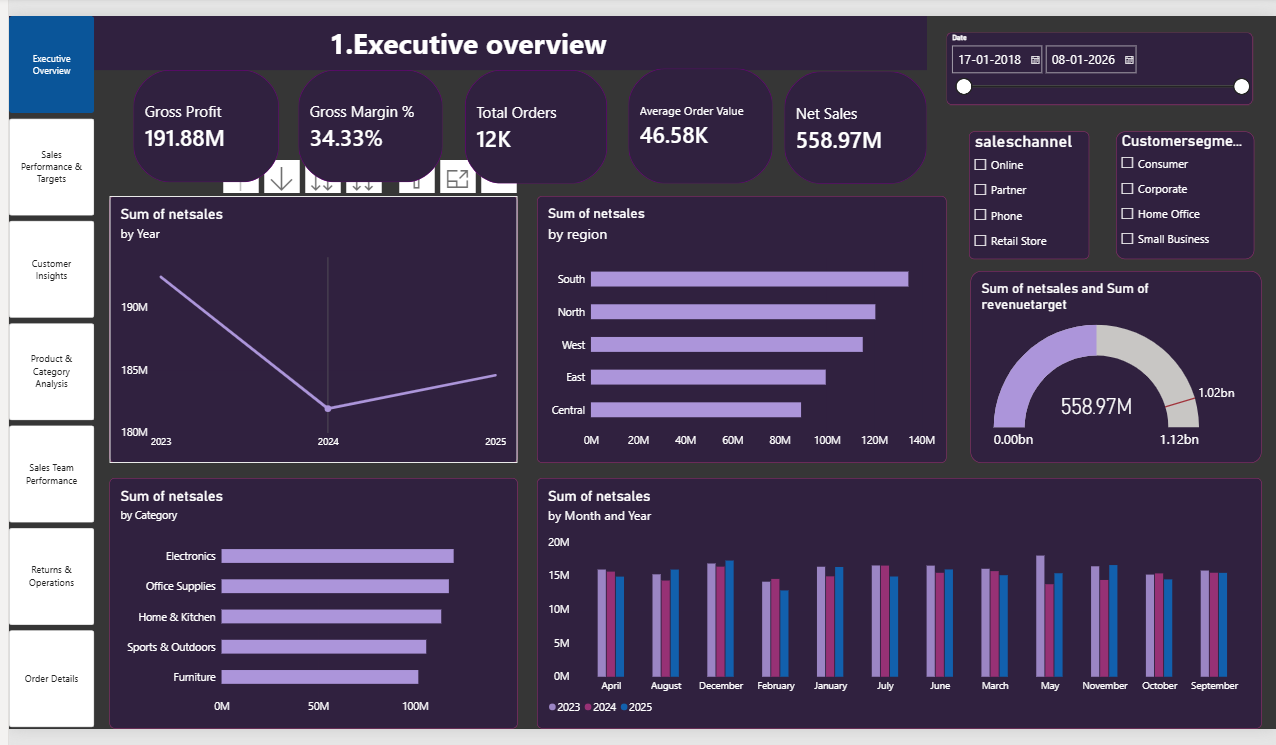

Layout of this report page (visuals, bound fields, positions):
{"tool":"powerbi","page":{"name":"Executive Overview","canvas":[1920,1080],"ordinal":0},"visuals":[{"type":"lineChart","fields":{"Category":["Calendar.Date.Variation.Date Hierarchy.Year","Calendar.Date.Variation.Date Hierarchy.Quarter","Calendar.Date.Variation.Date Hierarchy.Month","Calendar.Date.Variation.Date Hierarchy.Day"],"Y":["Sum(Order_items.netsales)"]},"box":[152.2,272.6,617.8,404.3],"z":0},{"type":"clusteredBarChart","fields":{"Category":["Customers.region"],"Y":["Sum(Order_items.netsales)"]},"box":[799.5,272.6,620.1,404.3],"z":1000},{"type":"clusteredBarChart","fields":{"Category":["Products.Category"],"Y":["Sum(Order_items.netsales)"]},"box":[152.2,699.6,617.8,379.3],"z":2000},{"type":"slicer","fields":{"Values":["Calendar.Date"]},"box":[1419.6,25,463.3,109],"z":3000},{"type":"slicer","fields":{"Values":["Orders.saleschannel"]},"box":[1454.5,175,181.8,193.2],"z":4000},{"type":"slicer","fields":{"Values":["Customers.customersegment"]},"box":[1677.3,175,209.1,193.2],"z":5000},{"type":"gauge","fields":{"TargetValue":["Sum(Sales_targets.revenuetarget)"],"Y":["Sum(Order_items.netsales)"]},"box":[1455.9,386.1,440.6,290.7],"z":6000},{"type":"clusteredColumnChart","fields":{"Category":["Calendar.Month"],"Series":["Calendar.Year"],"Y":["Sum(Order_items.netsales)"]},"box":[799.5,699.6,1097,379.3],"z":7000},{"type":"actionButton","box":[0,0,1390,81.8],"z":8000},{"type":"cardVisual","fields":{"Data":["Order_items.Average Order Value"]},"box":[938,79.5,218,174.9],"z":9000},{"type":"cardVisual","fields":{"Data":["Order_items.Total Orders"]},"box":[690.5,81.8,215.8,172.6],"z":11000},{"type":"cardVisual","fields":{"Data":["Order_items.Gross Margin %"]},"box":[438.4,81.8,218,170.3],"z":12000},{"type":"cardVisual","fields":{"Data":["Order_items.Gross Profit"]},"box":[188.5,81.8,220.3,170.3],"z":13000},{"type":"cardVisual","fields":{"Data":["Order_items.Net Sales"]},"box":[1174.3,84,215.8,170.3],"z":14000},{"type":"pageNavigator","box":[0,0,129.5,1078.9],"z":14001}]}

Visuals, with their boxes on the page's 1920x1080 design canvas (x1, y1, x2, y2). These are canvas units, not pixel positions in the 1276x745 screenshot, which may show the page scaled, cropped or inside an application window:
lineChart - Calendar.Date.Variation.Date Hierarchy.Year x Calendar.Date.Variation.Date Hierarchy.Quarter: [left=152, top=273, right=770, bottom=677]
clusteredBarChart - Customers.region x Sum(Order_items.netsales): [left=800, top=273, right=1420, bottom=677]
clusteredBarChart - Products.Category x Sum(Order_items.netsales): [left=152, top=700, right=770, bottom=1079]
slicer - Calendar.Date: [left=1420, top=25, right=1883, bottom=134]
slicer - Orders.saleschannel: [left=1454, top=175, right=1636, bottom=368]
slicer - Customers.customersegment: [left=1677, top=175, right=1886, bottom=368]
gauge - Sum(Sales_targets.revenuetarget) x Sum(Order_items.netsales): [left=1456, top=386, right=1896, bottom=677]
clusteredColumnChart - Calendar.Month x Calendar.Year: [left=800, top=700, right=1896, bottom=1079]
actionButton: [left=0, top=0, right=1390, bottom=82]
cardVisual - Order_items.Average Order Value: [left=938, top=80, right=1156, bottom=254]
cardVisual - Order_items.Total Orders: [left=690, top=82, right=906, bottom=254]
cardVisual - Order_items.Gross Margin %: [left=438, top=82, right=656, bottom=252]
cardVisual - Order_items.Gross Profit: [left=188, top=82, right=409, bottom=252]
cardVisual - Order_items.Net Sales: [left=1174, top=84, right=1390, bottom=254]
pageNavigator: [left=0, top=0, right=130, bottom=1079]
